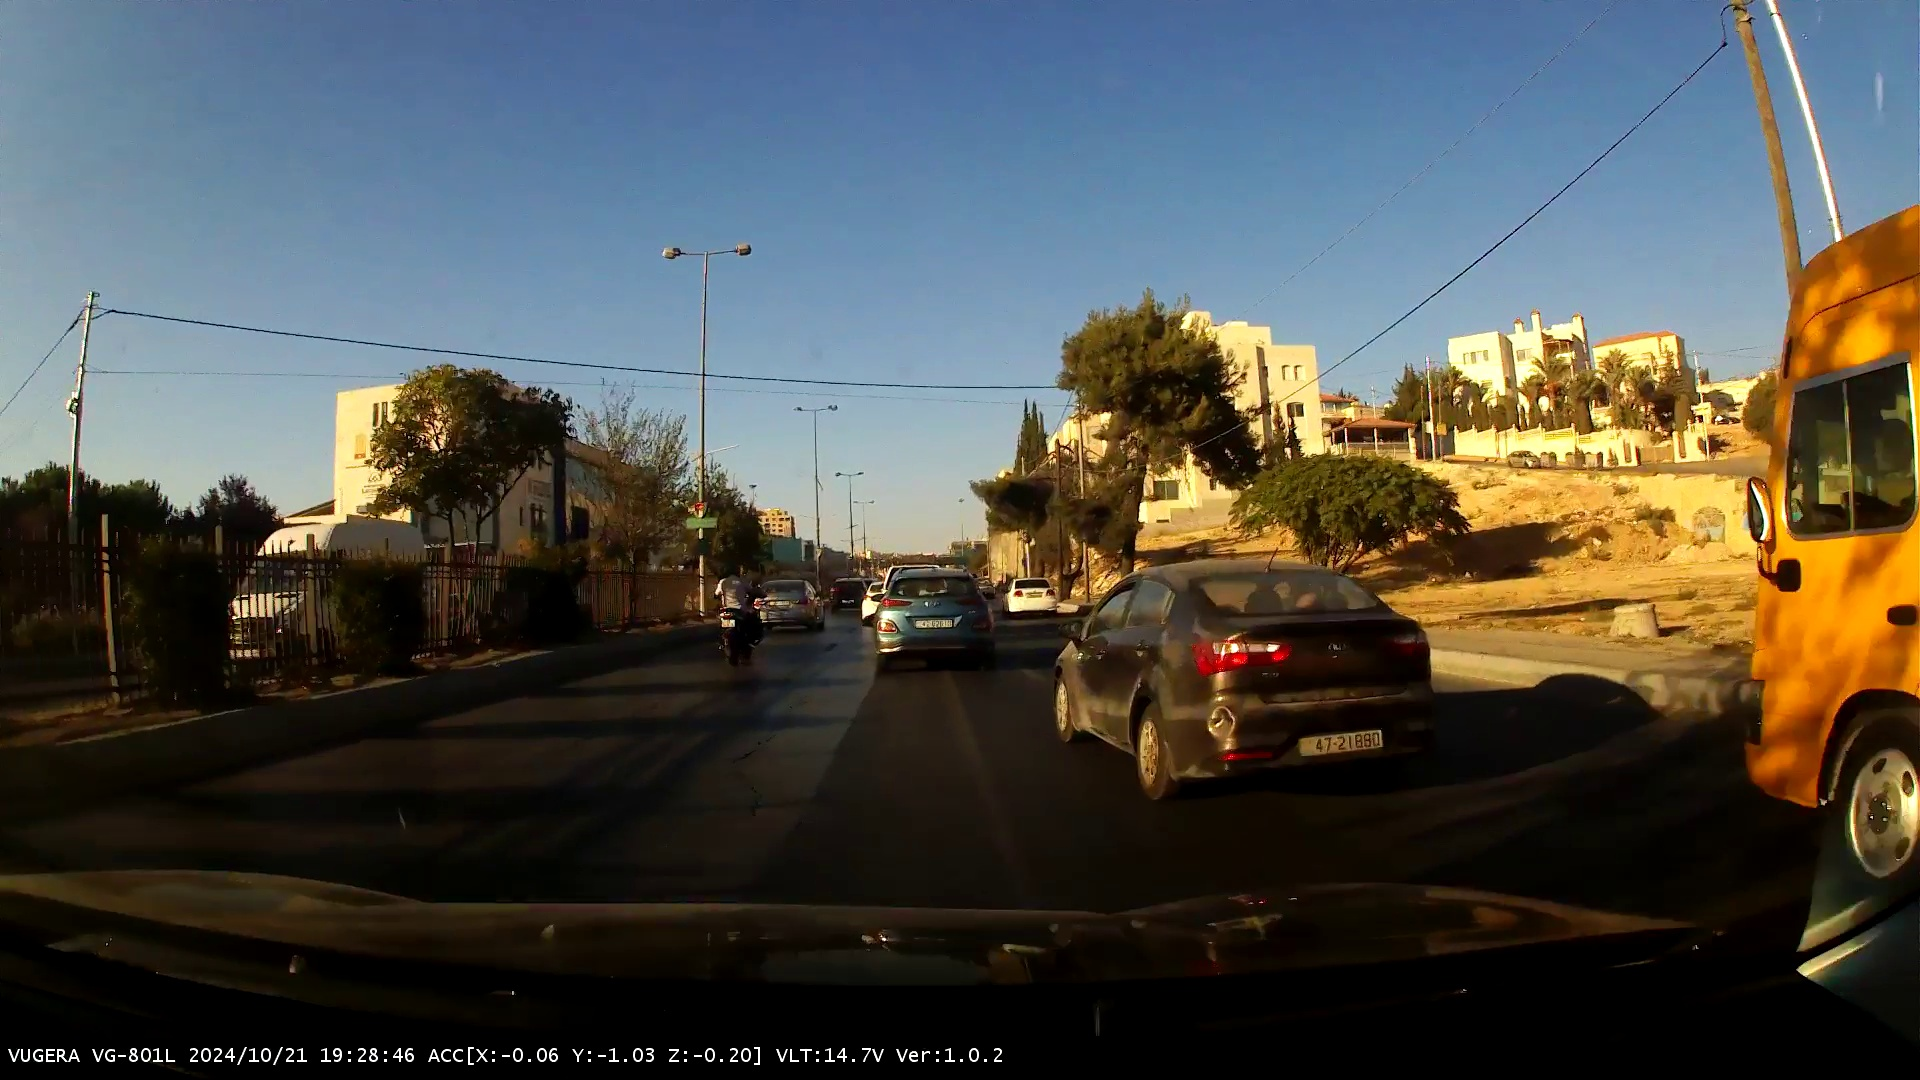vehicle: (1743, 208, 1920, 877), (1054, 556, 1433, 803), (220, 520, 427, 665), (869, 568, 996, 665), (717, 564, 757, 673), (753, 579, 825, 636), (1001, 578, 1058, 617), (1503, 450, 1544, 469)
